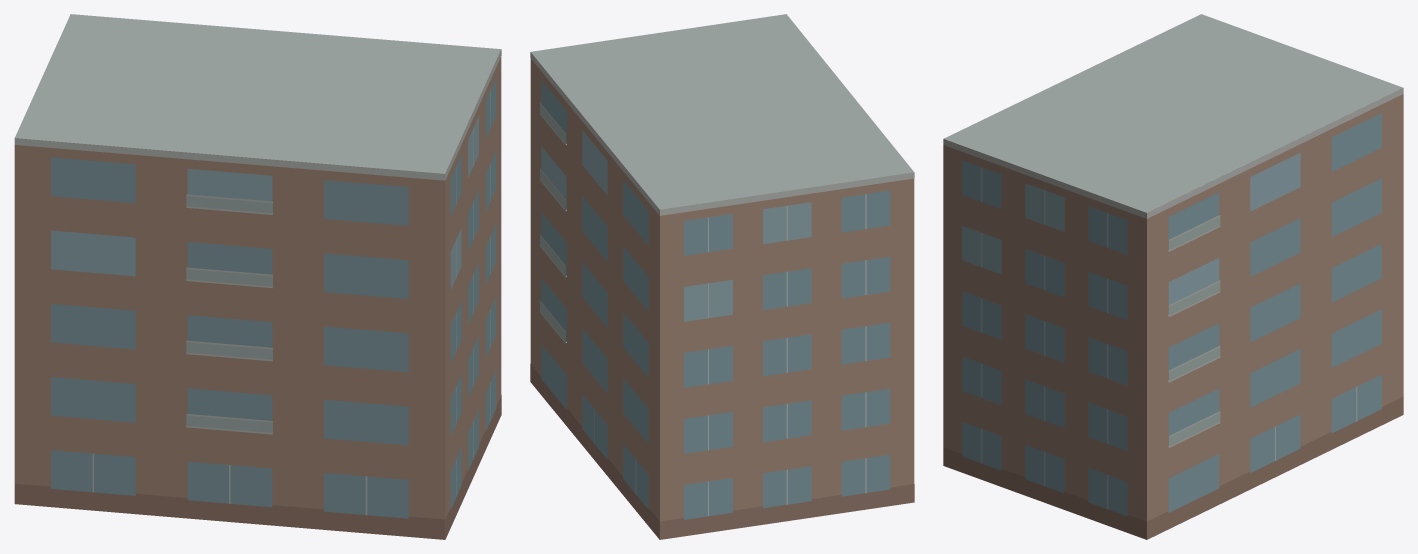
Rendered from survey-upis-32956844.glb.
3 renders of one model, left to right at view 1: azimuth 30°, elevation 25°; view 2: azimuth 150°, elevation 25°; view 3: azimuth 270°, elevation 25°, orthographic. The views are drawn at different scales.
Visible parts, largest first — view 1: survey-upis-32956844.tmp; view 2: survey-upis-32956844.tmp; view 3: survey-upis-32956844.tmp.
Part boxes in pixels (x1,y1,x2,y2): survey-upis-32956844.tmp: [14, 14, 501, 539]; survey-upis-32956844.tmp: [530, 14, 914, 539]; survey-upis-32956844.tmp: [943, 14, 1403, 539].
Bounding box in the file's own units: 17.23 × 13.2 × 16.85.
